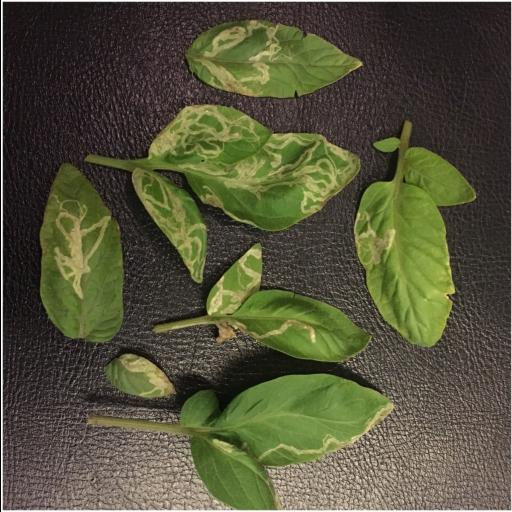Leaf Miner: (147, 102, 362, 230), (350, 178, 454, 348), (207, 375, 396, 468), (38, 158, 124, 344), (186, 16, 363, 98), (234, 292, 374, 362), (130, 166, 206, 286), (204, 242, 262, 322), (105, 348, 177, 400)
